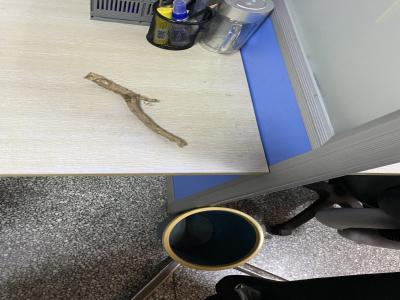Root: (84, 72, 187, 147)
